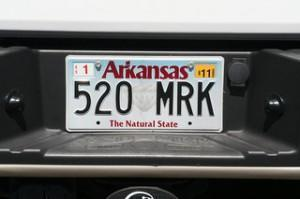placa de veiculo: (56, 49, 242, 134)
